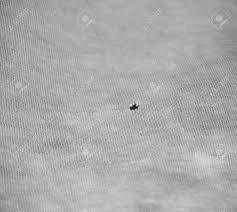Hole: (110, 87, 172, 128)
